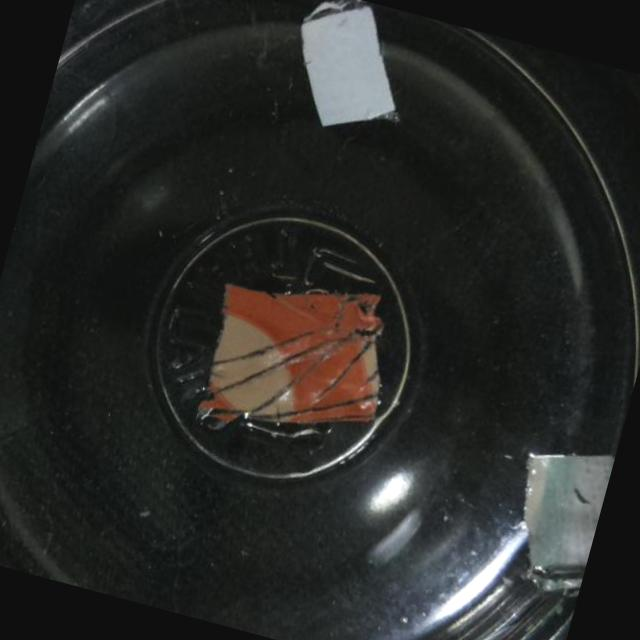fiber: (186, 251, 412, 468), (488, 432, 615, 610), (272, 0, 425, 145)
